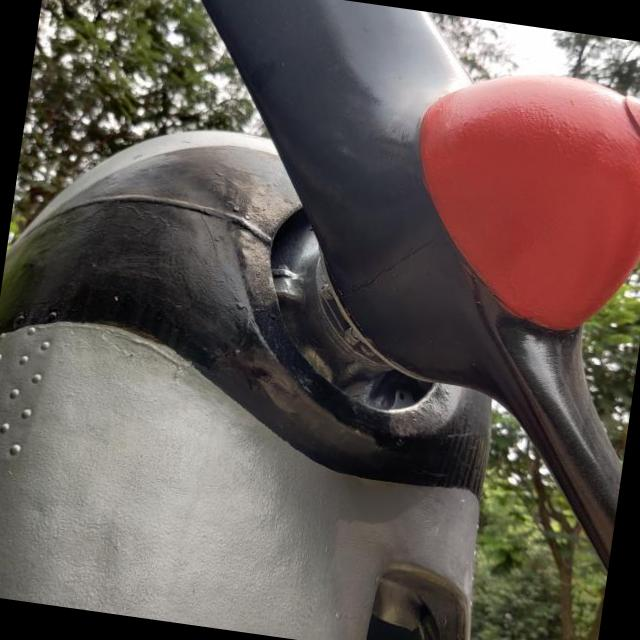Crack: (336, 238, 435, 303)
